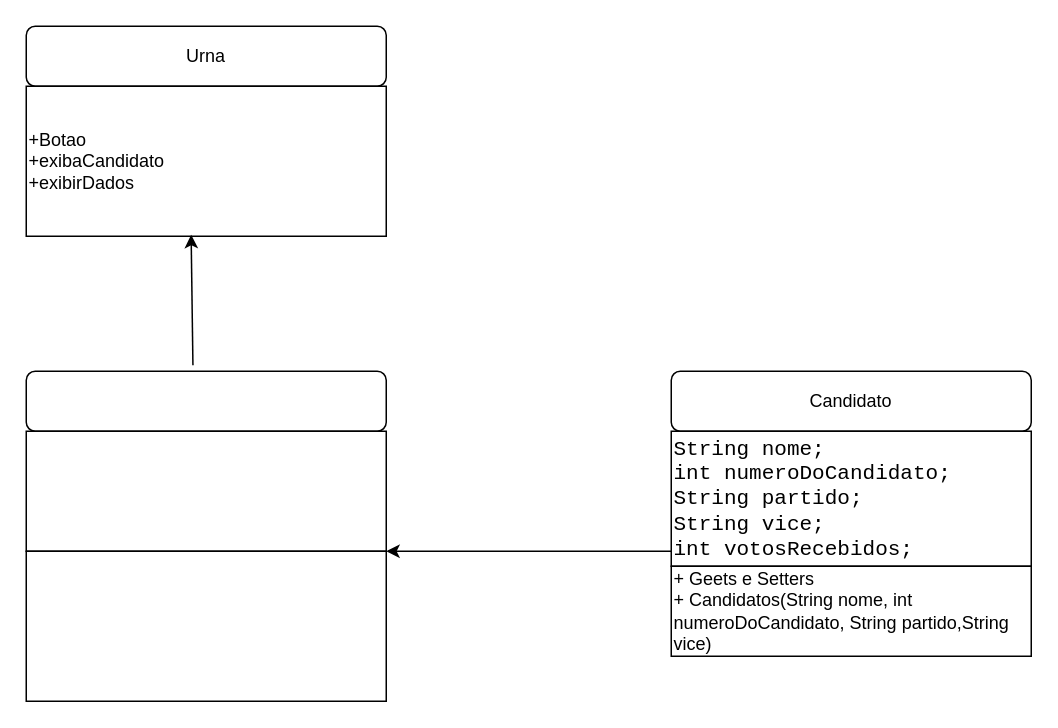
Image size: 1058x728. Some labels were removed from this diagram. The centre of each missing label's shape, as x and y in pixels:
+ Geets e Setters + addCandidato + votosValidos + exibirDados: (x=205, y=625)
Eleicao: (x=205, y=400)
List listaDeCandidatos; int qtdEleitores; int votoBranco; int votoNulo;: (x=205, y=490)
